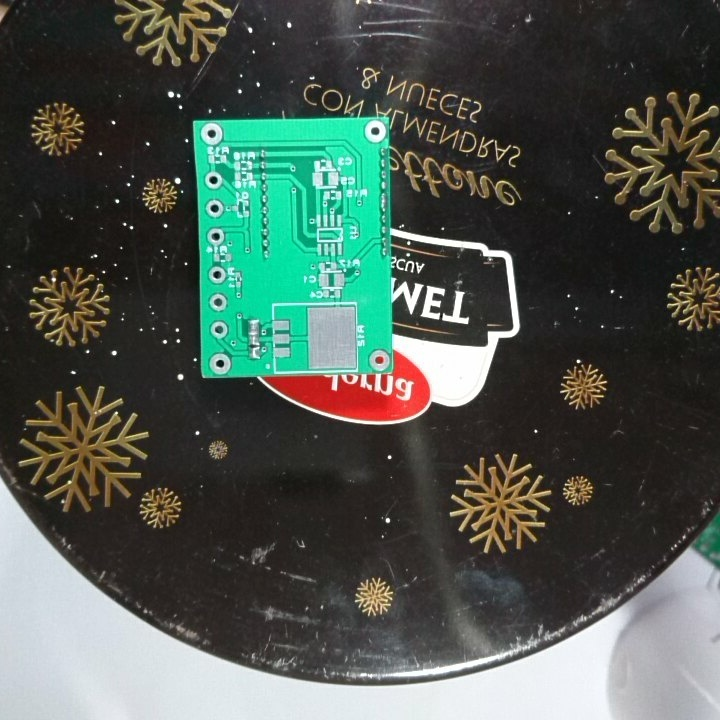F: (198, 121, 225, 147), (362, 118, 387, 144), (208, 351, 234, 375), (366, 348, 391, 372), (205, 263, 227, 287), (207, 292, 231, 314), (203, 198, 226, 219), (205, 224, 226, 247), (208, 319, 231, 340), (202, 169, 223, 191)
P: (245, 318, 265, 347), (377, 192, 390, 215)
